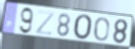8: (113, 19, 129, 45), (57, 13, 72, 38)
9: (19, 7, 35, 36)
O: (73, 13, 94, 42), (93, 17, 110, 43)
Z: (34, 10, 56, 37)
